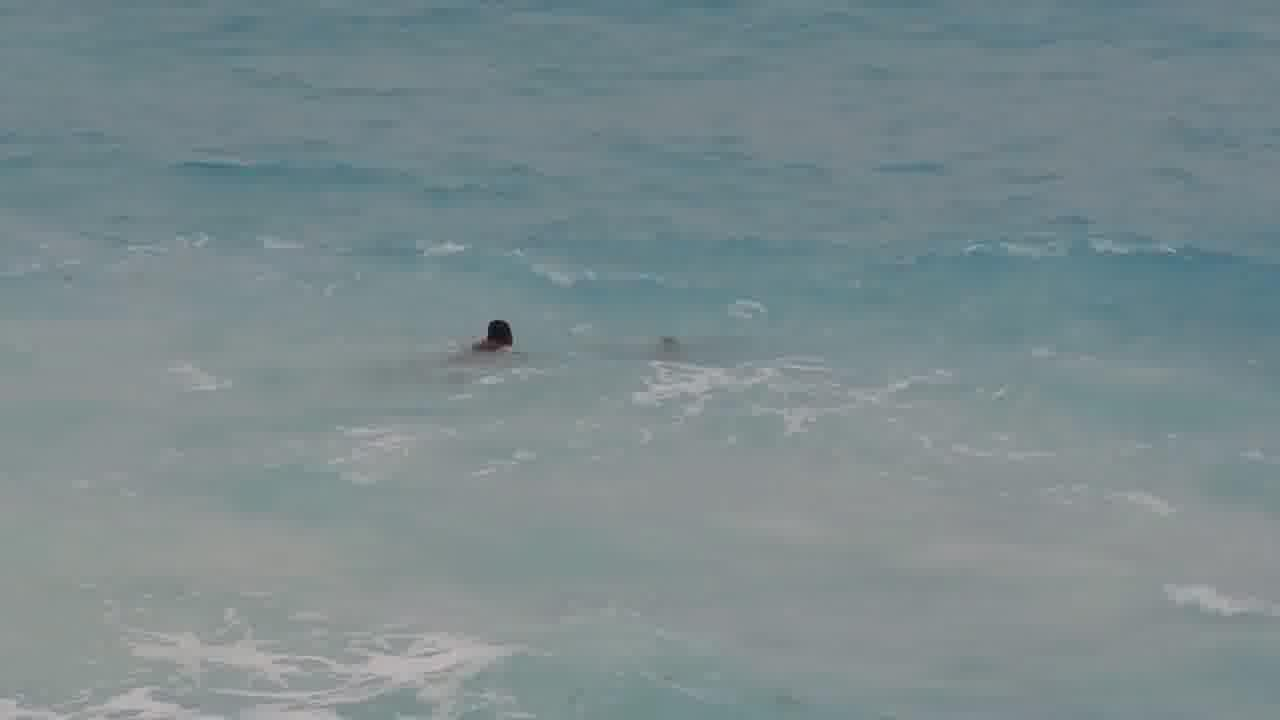human: (473, 313, 532, 358)
